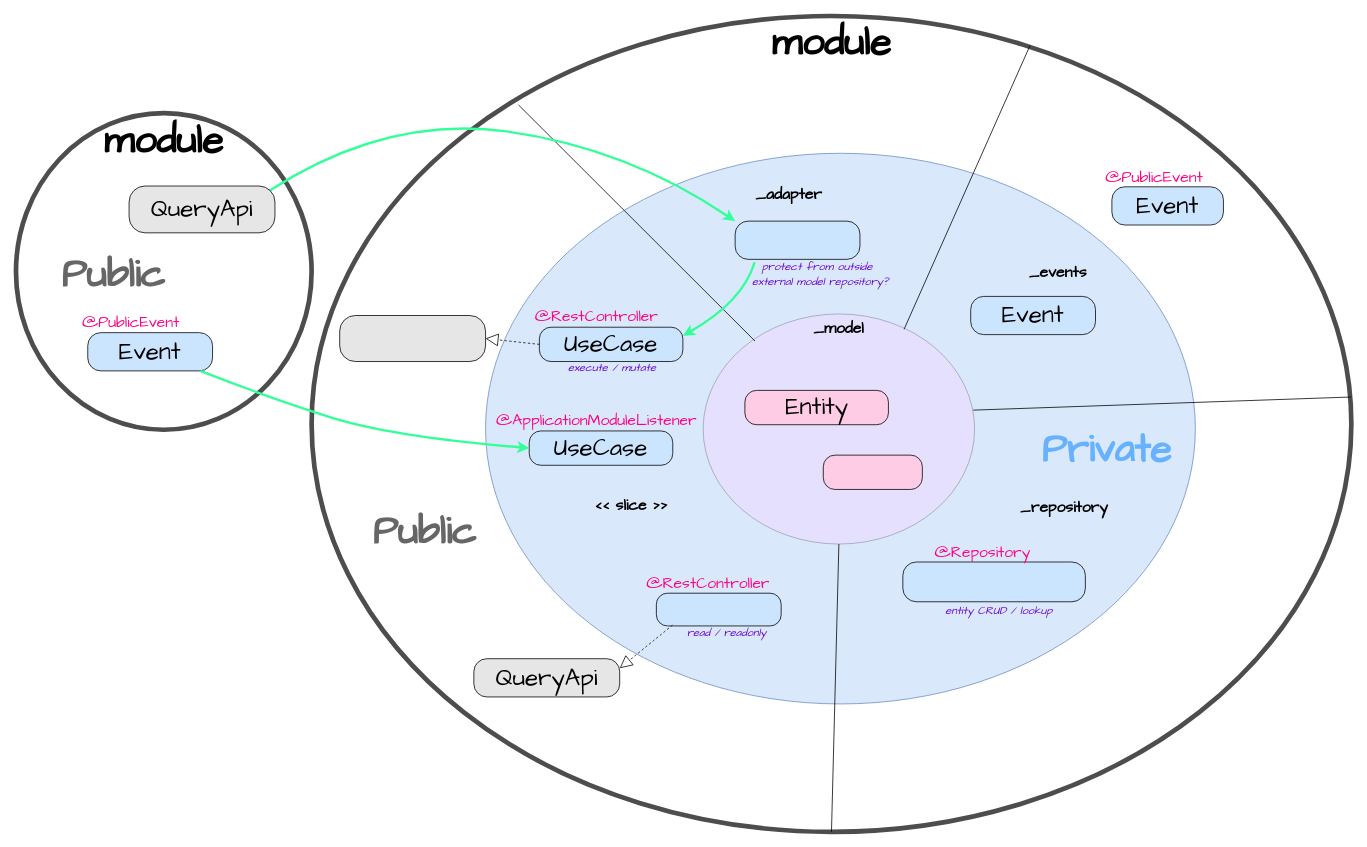
The diagram is 1367 pixels wide and 847 high, and some of its shapes have lost their labels. The shapes that lost their labels are listed below. From the top down, each one's centre as x and y in pixels, then its label:
At (797,239): "Adapter".
At (412,338): "UseCaseApi".
At (872,471): "Value".
At (993,581): "JpaRepository".
At (718,609): "Query".
